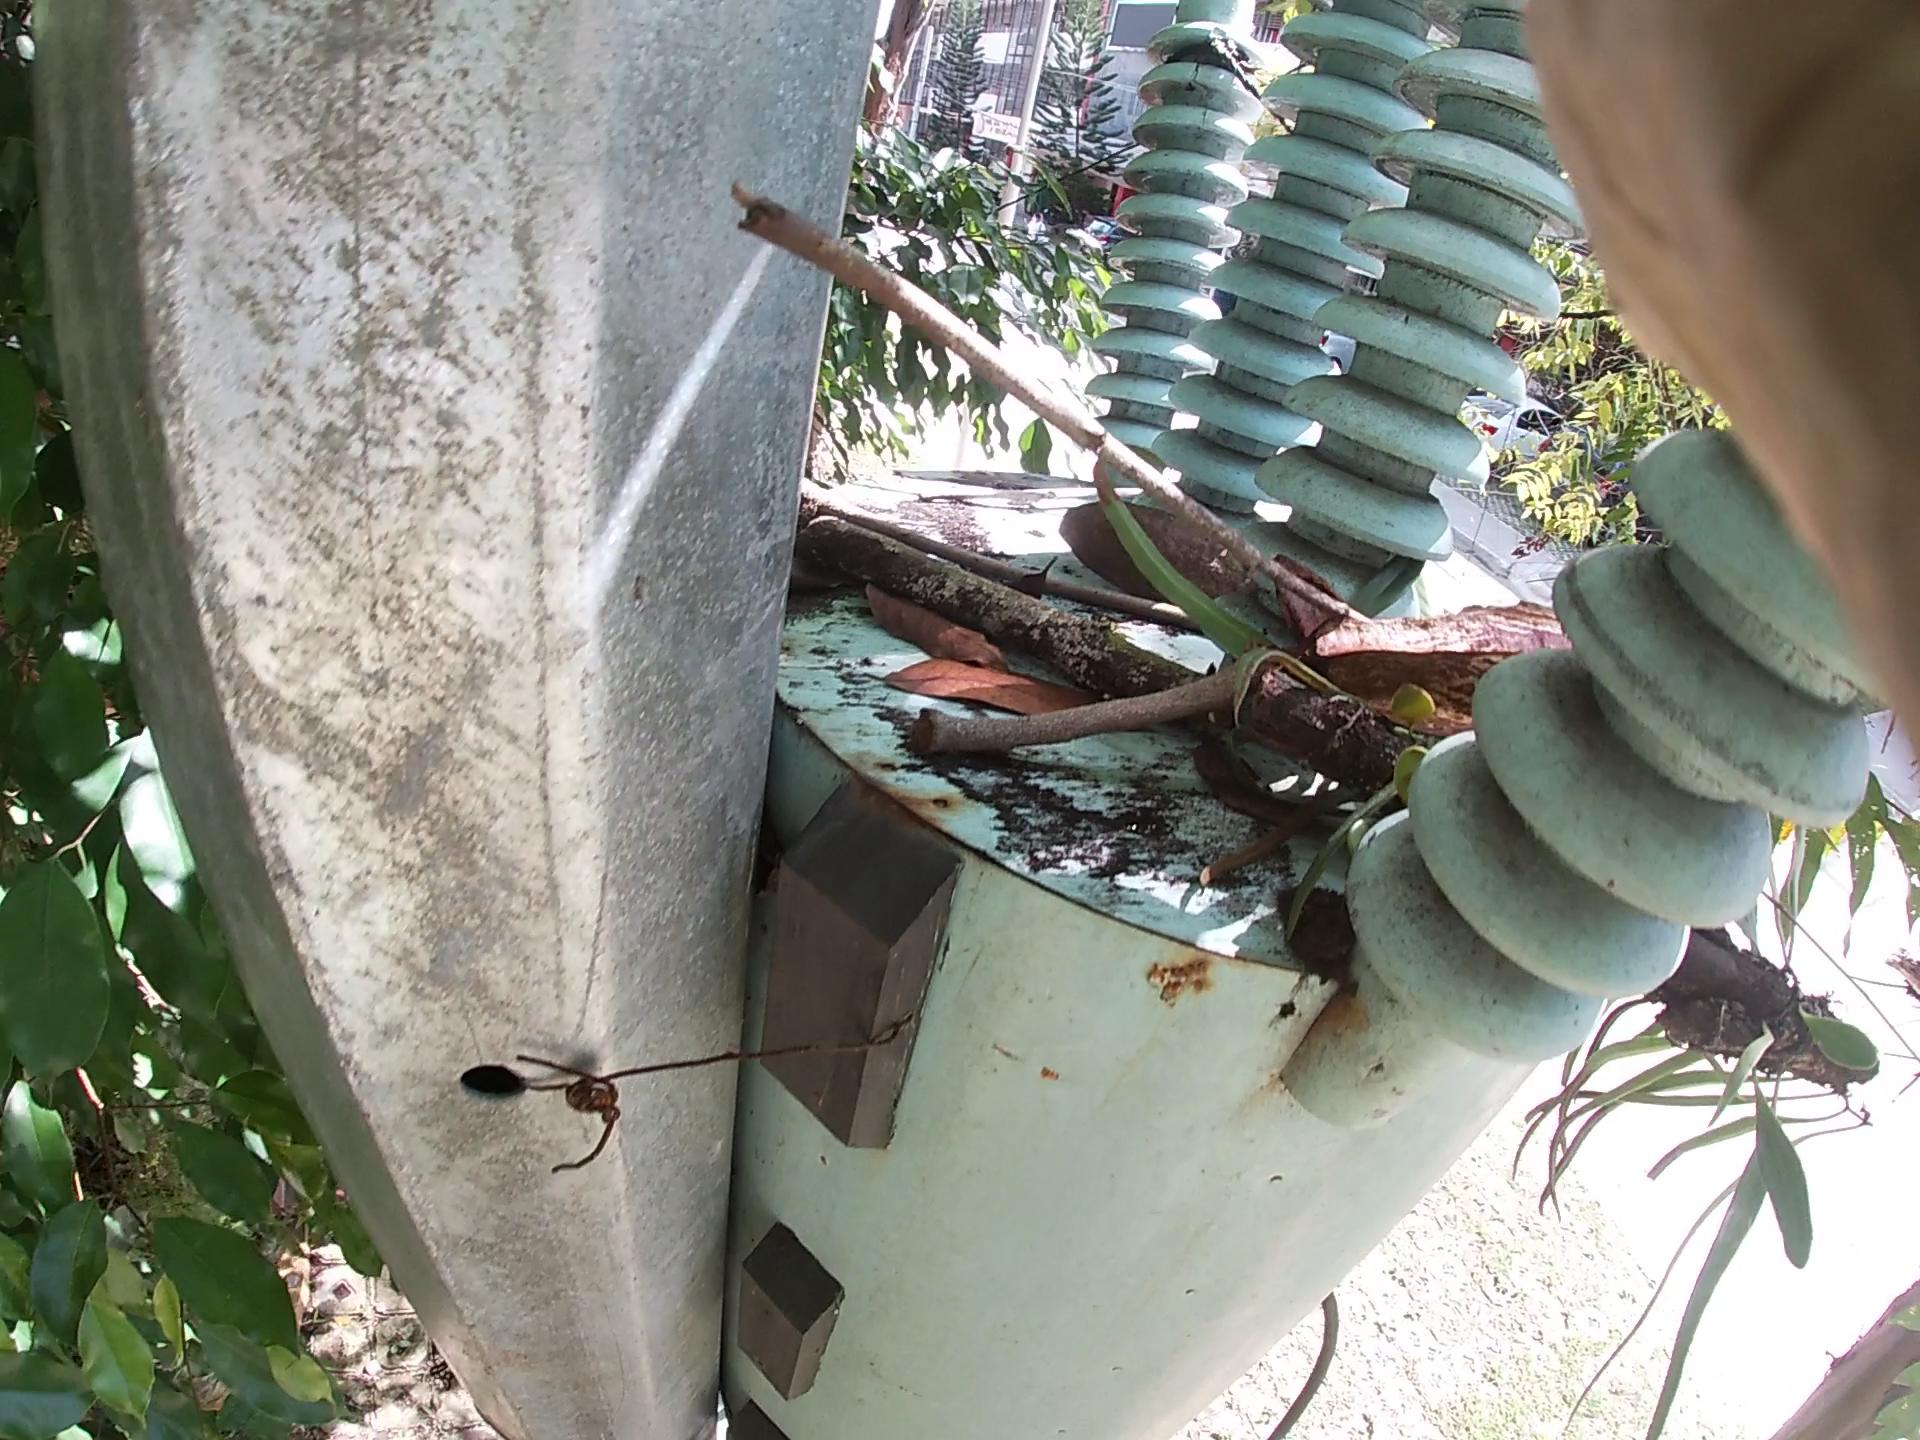branch with leaves: (797, 504, 1801, 1033)
leaf: (859, 566, 1085, 782)
mahogany fruit: (1262, 546, 1612, 771), (1005, 430, 1297, 625)
tree branch: (770, 206, 1414, 650), (912, 664, 1374, 874), (785, 486, 1163, 620)
